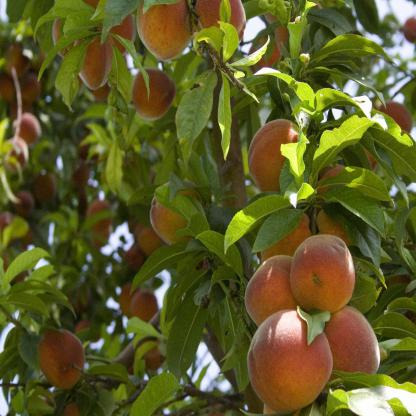Peach leaf: (308, 113, 386, 186), (222, 195, 289, 254), (328, 203, 381, 271), (163, 307, 206, 383), (323, 186, 388, 236), (315, 164, 395, 203), (129, 242, 187, 292), (310, 34, 394, 64), (251, 208, 304, 254), (197, 230, 243, 278), (215, 81, 233, 162), (229, 36, 271, 67), (218, 18, 238, 67)
